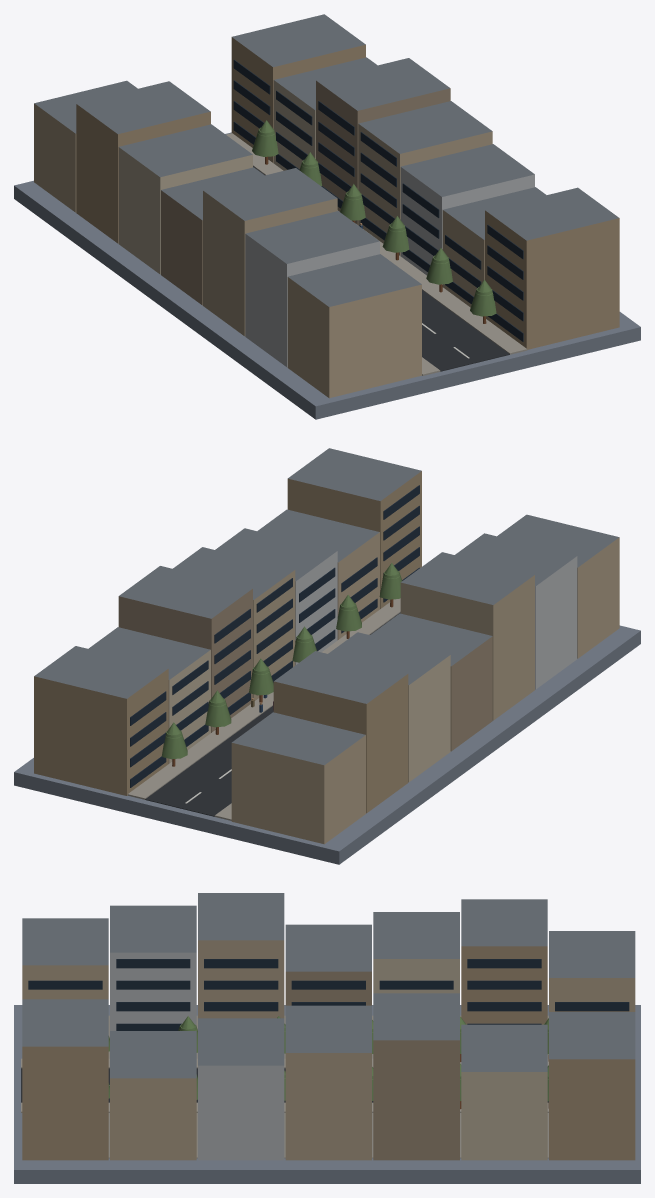
The model's file is street.glb.
The picture shows the model from 3 angles, top to bottom: view 1: azimuth 30°, elevation 25°; view 2: azimuth 150°, elevation 25°; view 3: azimuth 270°, elevation 25°; orthographic projection. The views are drawn at different scales.
Parts seen in each view (by area): view 1: street; view 2: street; view 3: street.
Part boxes in pixels (x1=…): street: x1=14, y1=14, x2=640, y2=419; street: x1=14, y1=448, x2=640, y2=864; street: x1=14, y1=893, x2=640, y2=1183.
Size of the model in its own units: 56 by 21.35 by 90.
